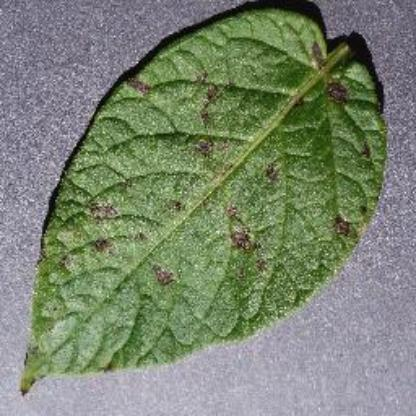Early-Blight: (20, 0, 412, 406)
